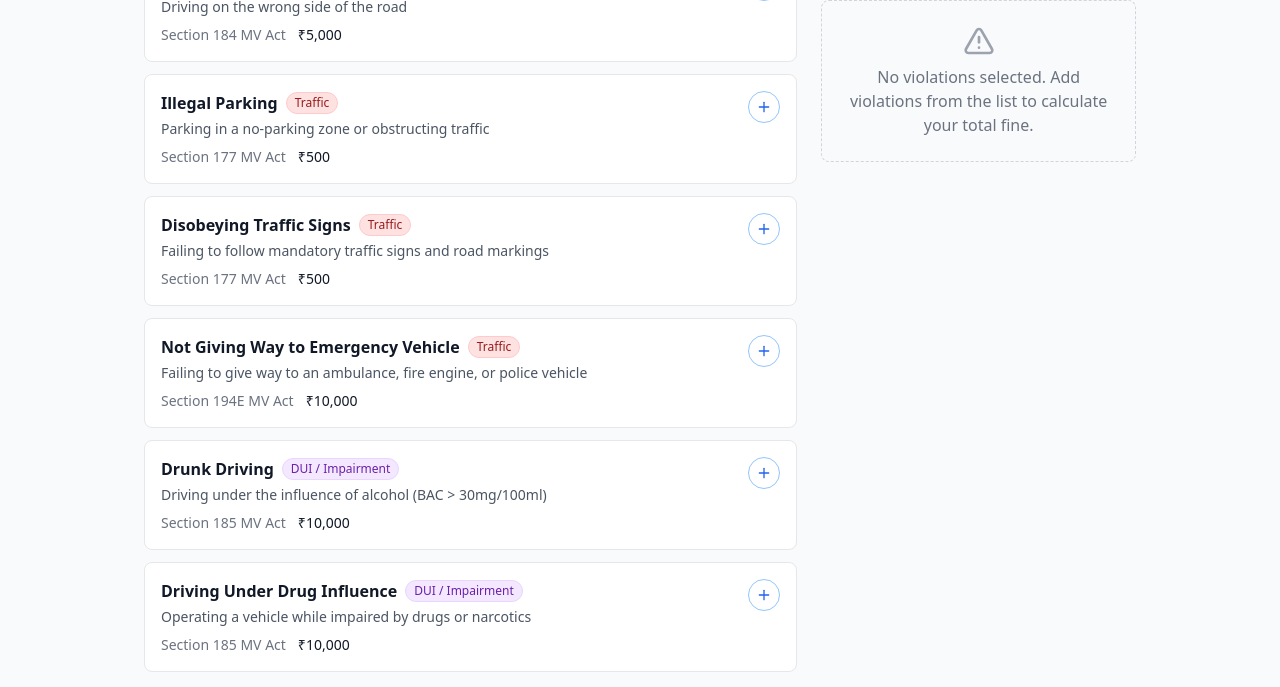
Scenario: FineCalculator › clears all violations
(page scrolled)
Click the button named "Add Drunk Driving" at x=764, y=473, box x1=748 y1=457 x2=780 y2=489
(page scrolled)
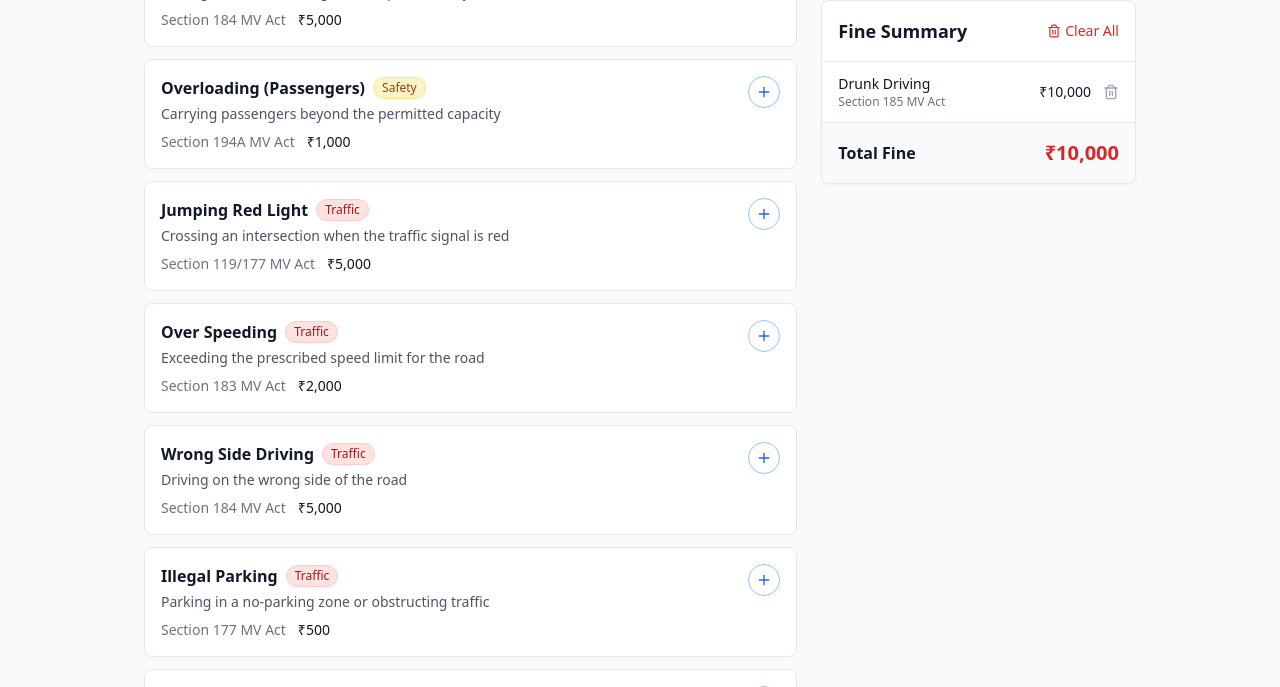
Click the button named "Add Over Speeding" at x=764, y=336, box x1=748 y1=320 x2=780 y2=352
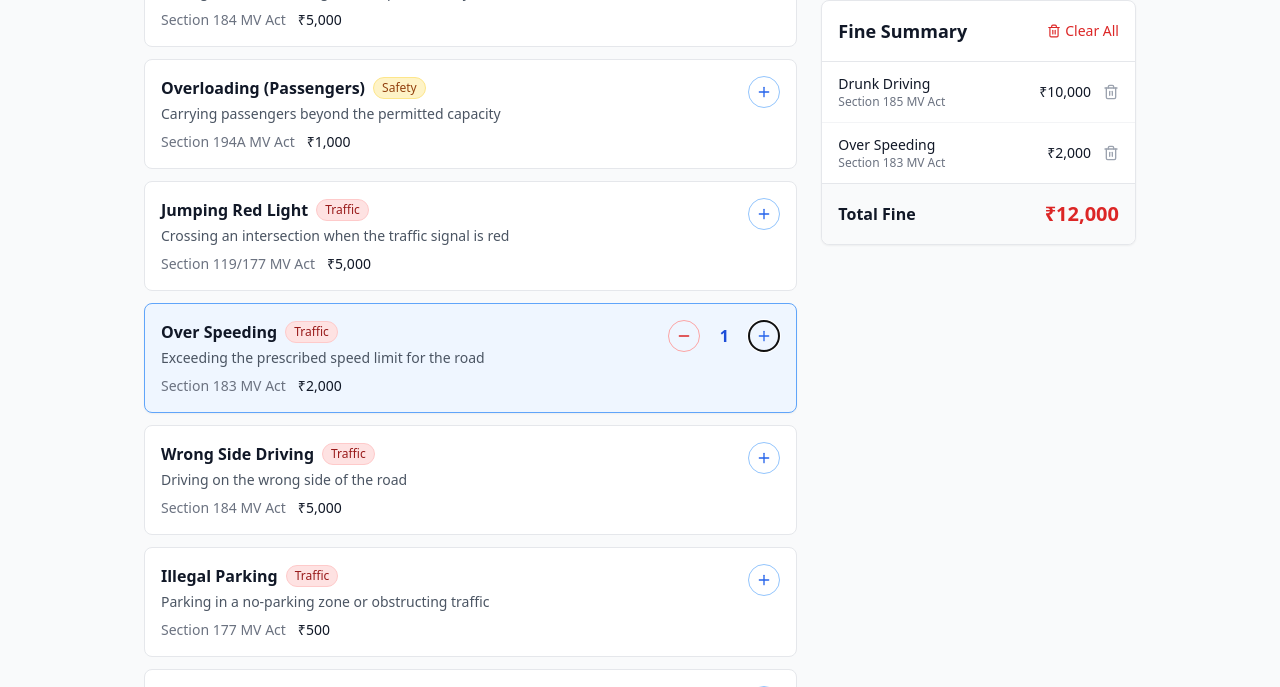
Click the button "Clear All" at x=1083, y=31, box x1=1047 y1=21 x2=1119 y2=41
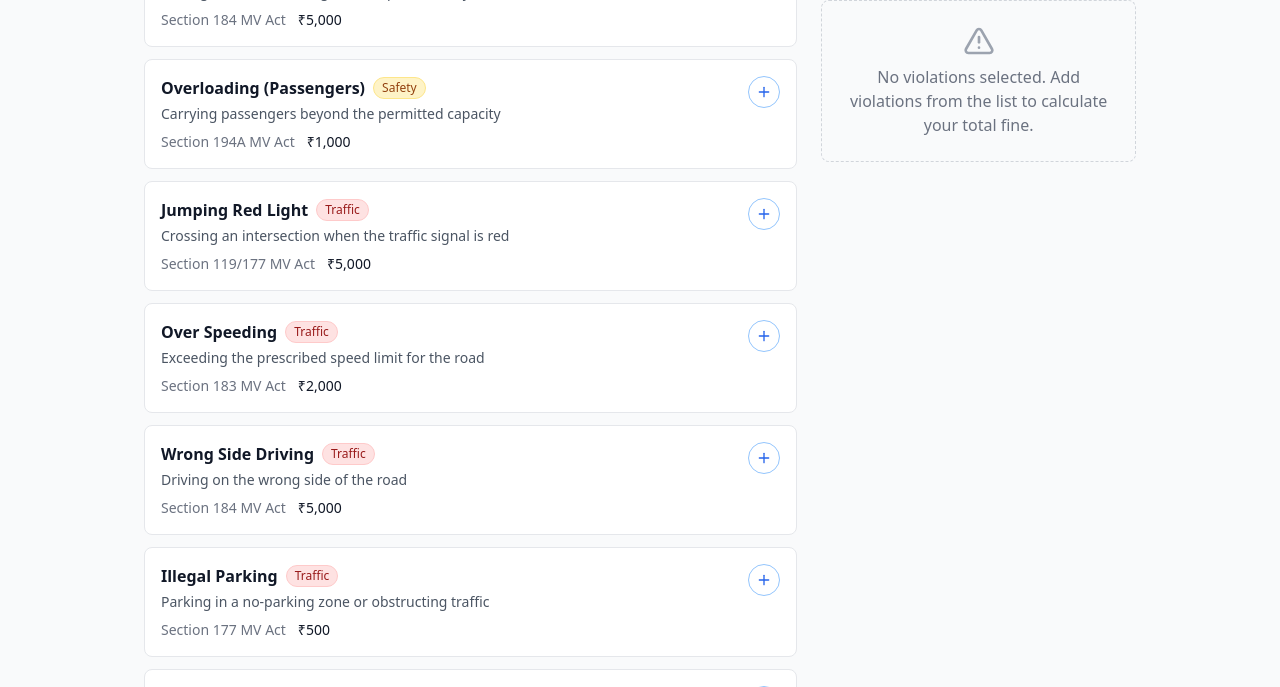
Expected: the text "No violations selected" is shown, x1=850 y1=66 x2=1107 y2=136
